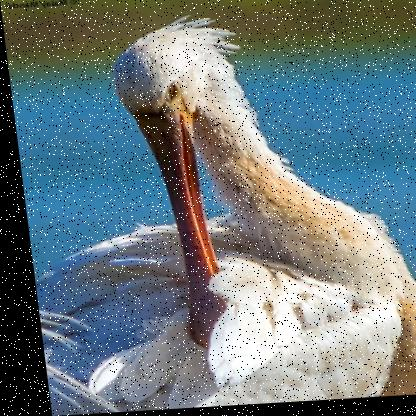Burung: (14, 9, 415, 415)
